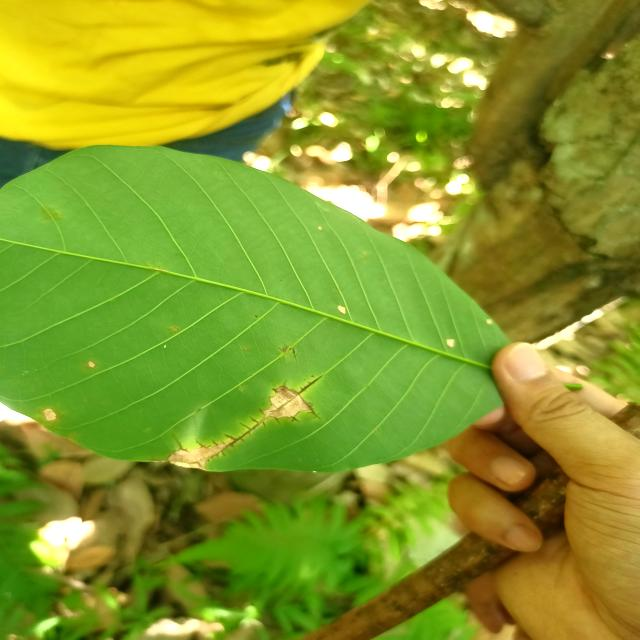Corynespora: (225, 408, 281, 448), (297, 376, 323, 394), (303, 401, 320, 418), (173, 436, 188, 451), (196, 440, 212, 448)
Leaf-Blight: (168, 444, 228, 471), (265, 387, 310, 418), (44, 408, 56, 421), (337, 305, 346, 314), (446, 338, 454, 348), (89, 361, 95, 368)
